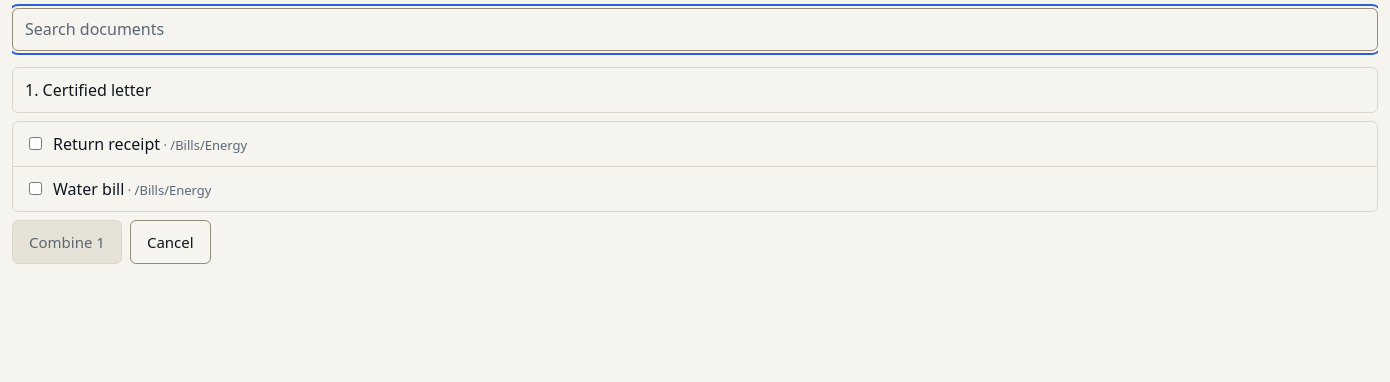
Test case: DocumentChooser: combine › names the part that cannot be combined
Click the checkbox labelled "Return receipt · /Bills/Energy".
click(36, 144)  # box [29,137,42,150]
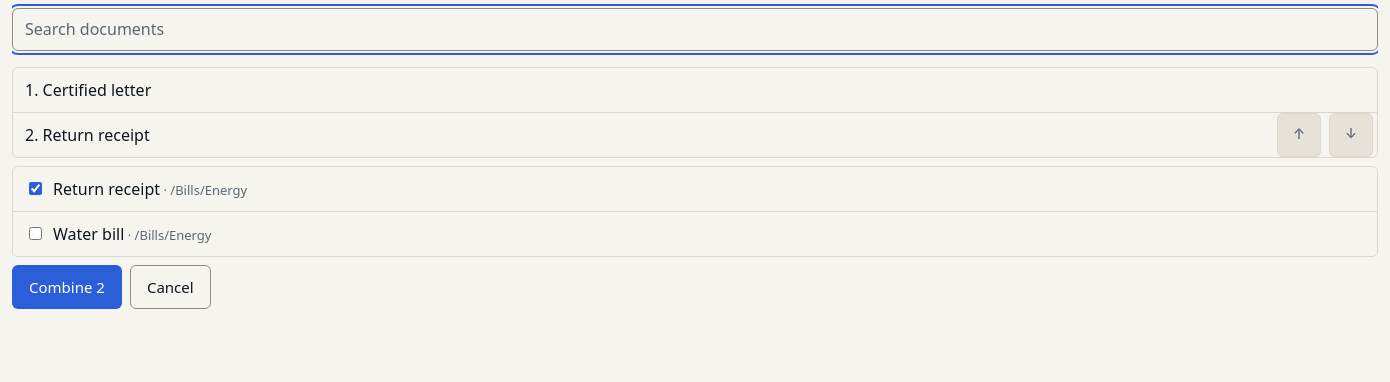
Click the button "Combine 2".
click(67, 287)  # box [12,265,122,309]
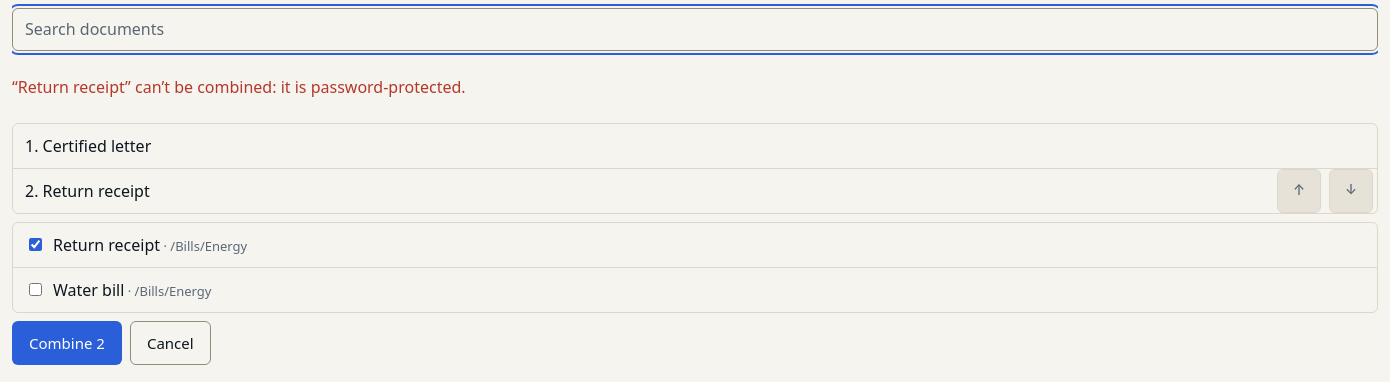
Result: the message reads "“Return receipt” can’t be combined: it is password-protected." at [12,76,466,98]
